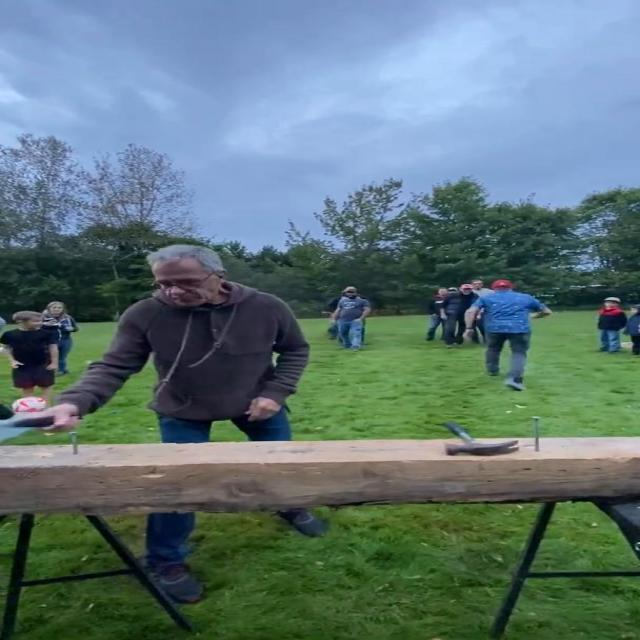hammer: (437, 416, 526, 461)
